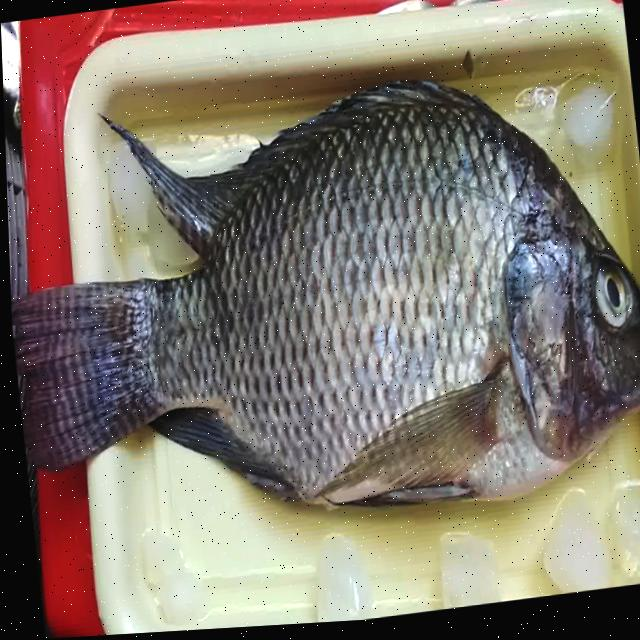Fresh: (2, 35, 570, 597), (552, 221, 640, 364)
